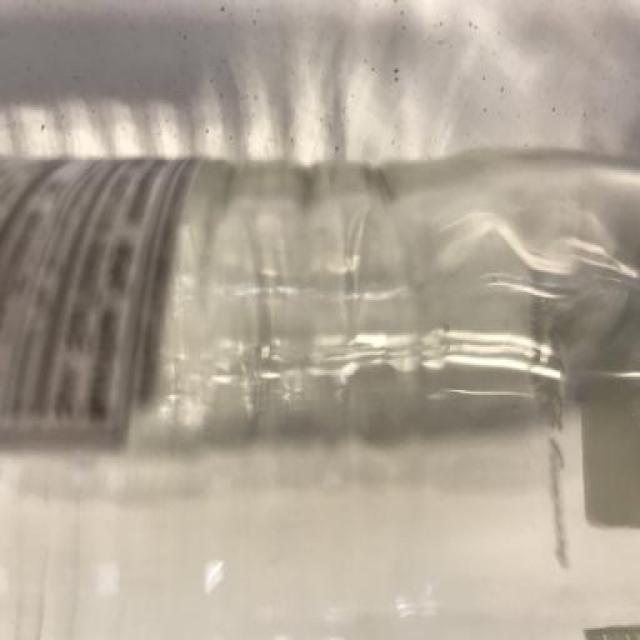glass: (0, 148, 640, 640)
